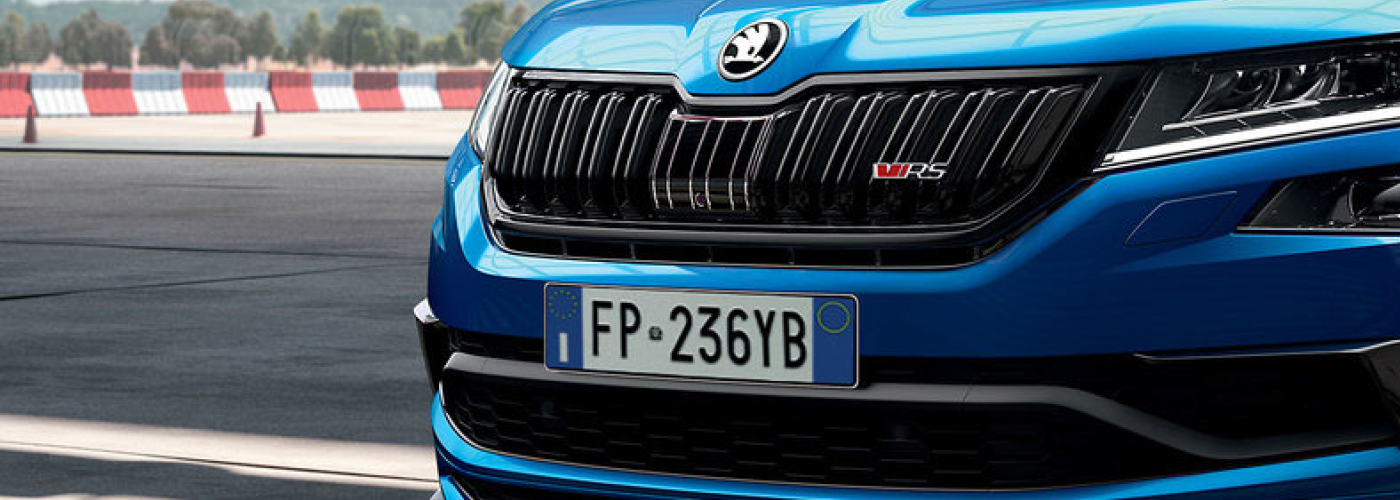license_plate: (544, 282, 856, 388)
